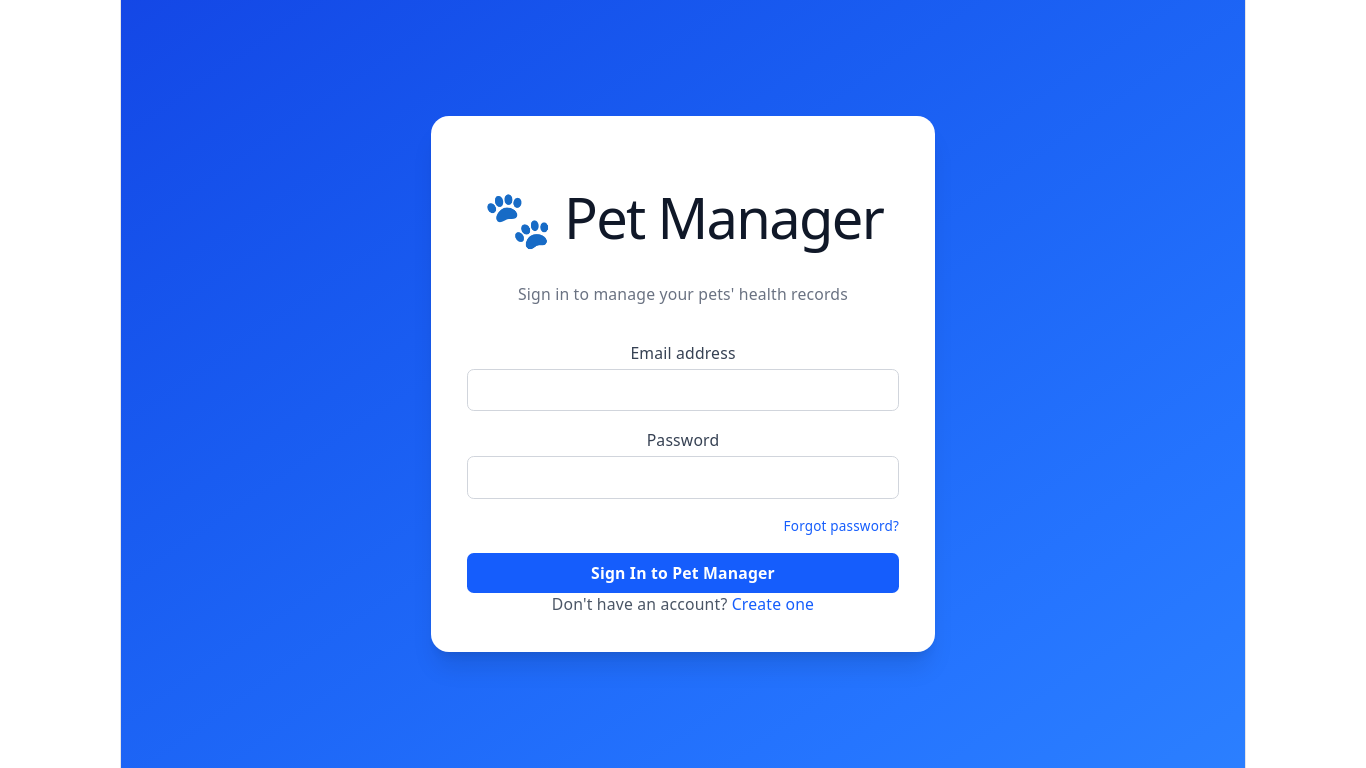
LoginPage › shows inline validation error when submitting empty form
Click the button "Sign In to Pet Manager" at (683, 573), box [467, 553, 899, 593]
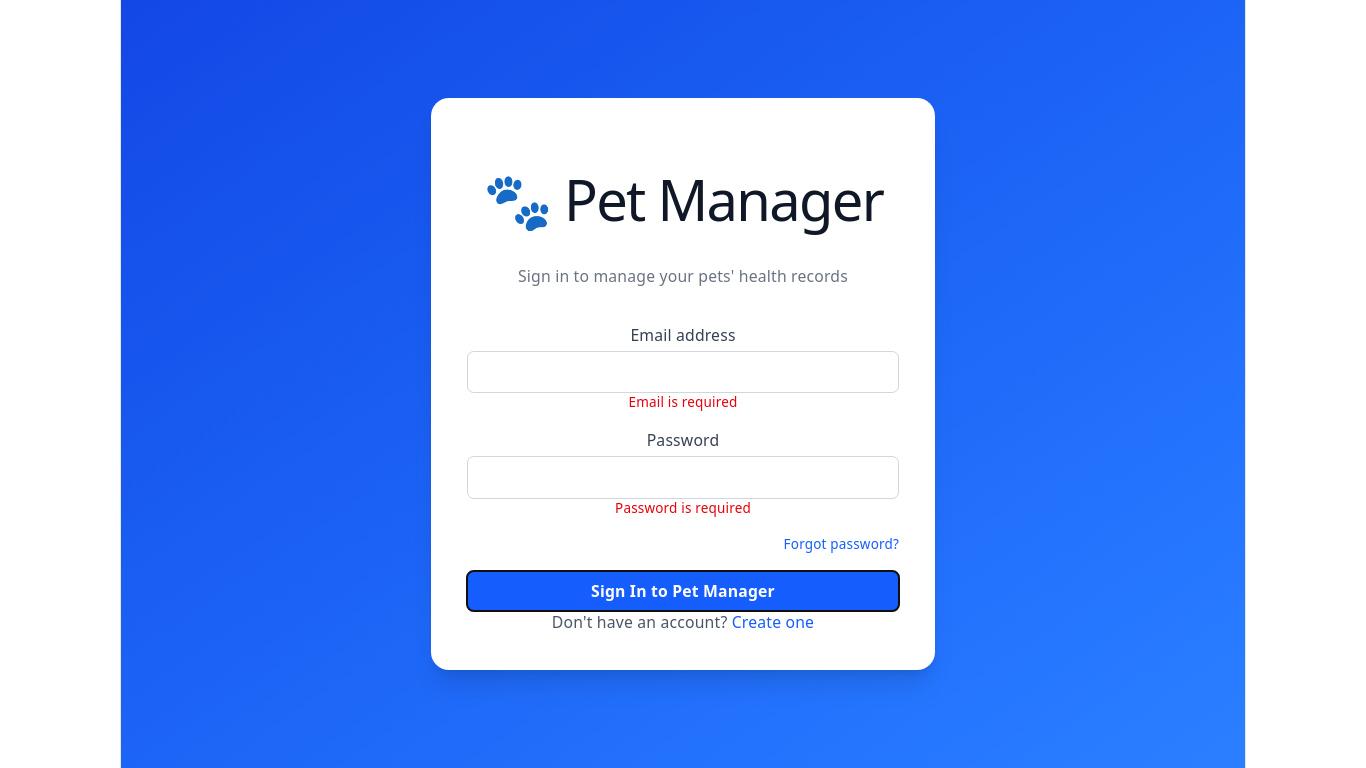
Expected: the text "Email is required" is shown, [628, 393, 738, 411]
